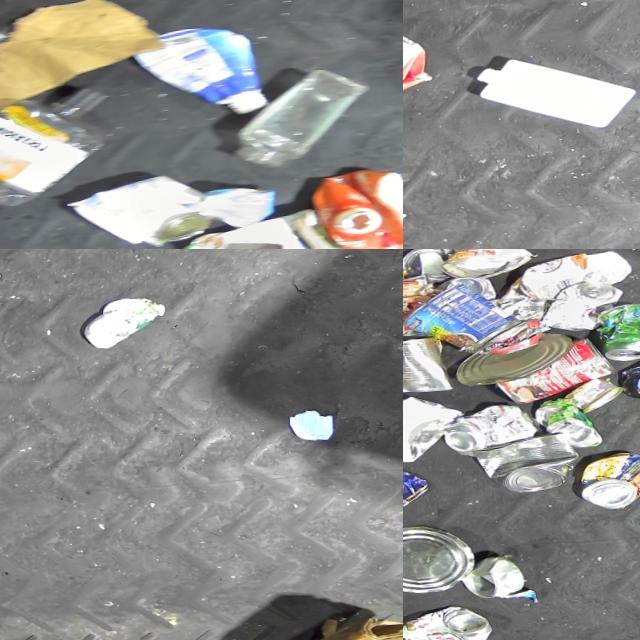can: (76, 168, 210, 249), (403, 280, 523, 358), (491, 334, 615, 404), (470, 430, 581, 494), (452, 331, 574, 385), (403, 520, 479, 597), (441, 401, 538, 457), (538, 279, 626, 333), (576, 448, 640, 509), (533, 396, 602, 450), (403, 601, 493, 640), (403, 333, 454, 395), (457, 553, 525, 599), (437, 249, 534, 280), (594, 302, 640, 362), (563, 375, 623, 414), (403, 273, 434, 342), (435, 274, 497, 302), (403, 249, 451, 284), (403, 452, 432, 509)
milk_jug: (470, 49, 638, 134)
non_white_jug: (124, 24, 272, 122), (296, 162, 403, 249), (403, 3, 435, 103)
